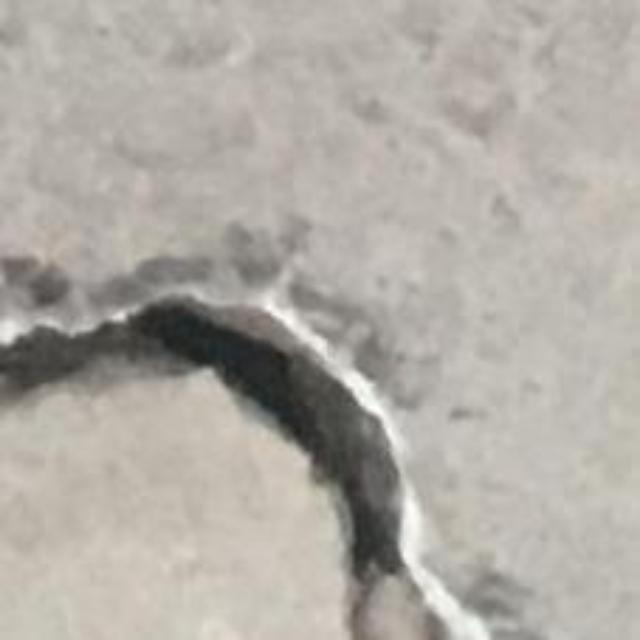crack: (0, 254, 493, 639)
